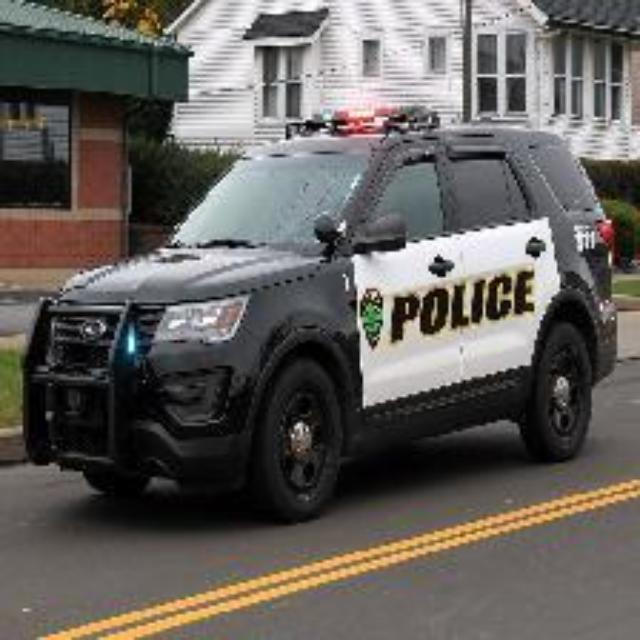emergency: (26, 98, 626, 500)
